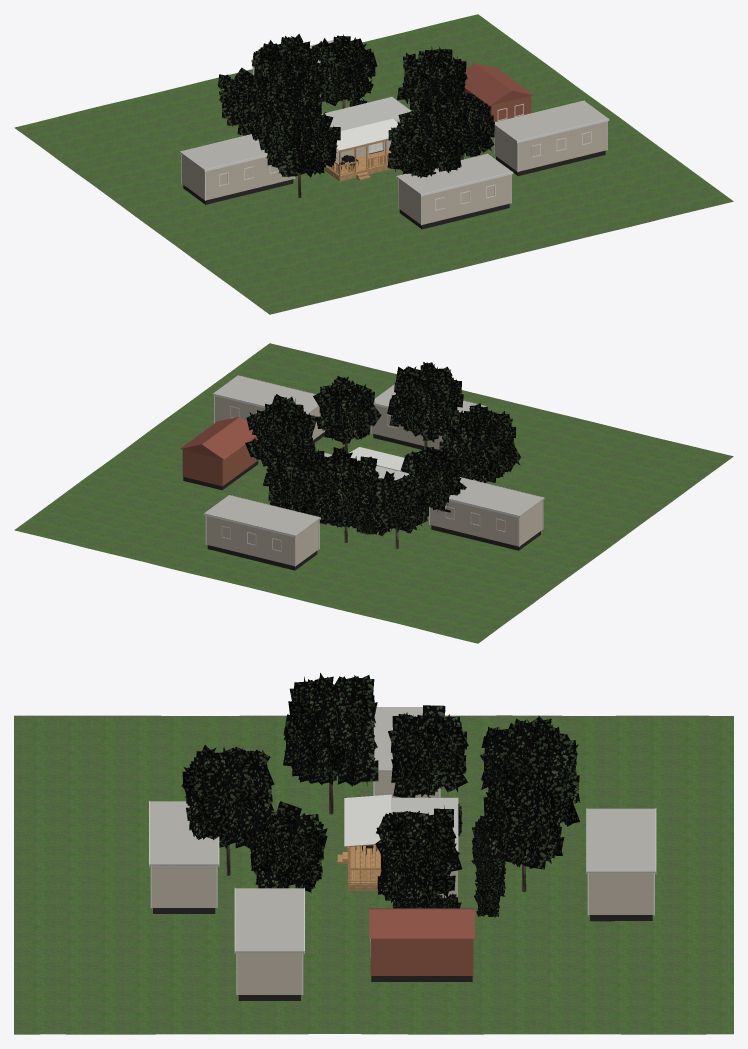
The model's file is chalet.glb.
3 views of the same model, one above another, from view 1: azimuth 30°, elevation 25°; view 2: azimuth 150°, elevation 25°; view 3: azimuth 270°, elevation 25° (orthographic). The views are drawn at different scales.
Visible parts, largest first — view 1: S_E_lawn, N_buiten_z_foliage_cards, N_buiten_n_foliage_cards, N_buiten_z_siding_neighbour, N_buiten_foliage_cards, N_buiten_z_roof_neighbour, N_buiten_siding_neighbour, N_buiten_neighbour_roof_red, N_buiten_roof_neighbour, S_D_roof_membrane, N_buiten_z_trim_white, S_D_veranda_pine (+6 smaller); view 2: S_E_lawn, N_buiten_z_foliage_cards, N_buiten_n_foliage_cards, N_buiten_foliage_cards, N_buiten_n_siding_neighbour, N_buiten_siding_neighbour, N_buiten_n_roof_neighbour, N_buiten_z_roof_neighbour, N_buiten_z_siding_neighbour, N_buiten_neighbour_wood, N_buiten_neighbour_roof_red, N_buiten_roof_neighbour (+5 smaller); view 3: S_E_lawn, N_buiten_z_foliage_cards, N_buiten_n_foliage_cards, N_buiten_foliage_cards, N_buiten_z_roof_neighbour, N_buiten_z_siding_neighbour, N_buiten_n_roof_neighbour, N_buiten_neighbour_wood, N_buiten_neighbour_roof_red, N_buiten_n_siding_neighbour, S_D_veranda_roof, N_buiten_roof_neighbour (+6 smaller).
Part boxes in pixels (x1=…): S_E_lawn: x1=14, y1=14, x2=733, y2=314; N_buiten_z_foliage_cards: x1=258, y1=91, x2=494, y2=178; N_buiten_n_foliage_cards: x1=218, y1=34, x2=377, y2=135; N_buiten_z_siding_neighbour: x1=398, y1=121, x2=606, y2=224; N_buiten_foliage_cards: x1=243, y1=46, x2=467, y2=140; N_buiten_z_roof_neighbour: x1=396, y1=101, x2=608, y2=194; N_buiten_siding_neighbour: x1=182, y1=154, x2=294, y2=200; N_buiten_neighbour_roof_red: x1=464, y1=63, x2=533, y2=105; N_buiten_roof_neighbour: x1=180, y1=134, x2=267, y2=170; S_D_roof_membrane: x1=321, y1=97, x2=410, y2=130; N_buiten_z_trim_white: x1=396, y1=100, x2=609, y2=225; S_D_veranda_pine: x1=324, y1=138, x2=391, y2=181; S_E_lawn: x1=14, y1=343, x2=733, y2=643; N_buiten_z_foliage_cards: x1=313, y1=362, x2=521, y2=482; N_buiten_n_foliage_cards: x1=263, y1=443, x2=427, y2=536; N_buiten_foliage_cards: x1=245, y1=394, x2=466, y2=525; N_buiten_n_siding_neighbour: x1=206, y1=516, x2=318, y2=565; N_buiten_siding_neighbour: x1=430, y1=500, x2=542, y2=546; N_buiten_n_roof_neighbour: x1=205, y1=495, x2=320, y2=535; N_buiten_z_roof_neighbour: x1=214, y1=375, x2=486, y2=414; N_buiten_z_siding_neighbour: x1=215, y1=396, x2=452, y2=449; N_buiten_neighbour_wood: x1=182, y1=436, x2=259, y2=486; N_buiten_neighbour_roof_red: x1=180, y1=417, x2=255, y2=459; N_buiten_roof_neighbour: x1=449, y1=477, x2=544, y2=516; S_E_lawn: x1=14, y1=715, x2=733, y2=1034; N_buiten_z_foliage_cards: x1=181, y1=673, x2=378, y2=892; N_buiten_n_foliage_cards: x1=471, y1=715, x2=580, y2=917; N_buiten_foliage_cards: x1=375, y1=705, x2=468, y2=908; N_buiten_z_roof_neighbour: x1=149, y1=801, x2=304, y2=952; N_buiten_z_siding_neighbour: x1=151, y1=866, x2=302, y2=994; N_buiten_n_roof_neighbour: x1=586, y1=808, x2=655, y2=872; N_buiten_neighbour_wood: x1=370, y1=938, x2=473, y2=975; N_buiten_neighbour_roof_red: x1=369, y1=908, x2=474, y2=938; N_buiten_n_siding_neighbour: x1=589, y1=873, x2=653, y2=914; S_D_veranda_roof: x1=344, y1=794, x2=391, y2=846; N_buiten_roof_neighbour: x1=373, y1=707, x2=422, y2=771.
Size of the model in its own units: 44 by 8.56 by 42.
Materials: 121 (87 with a texture image).
